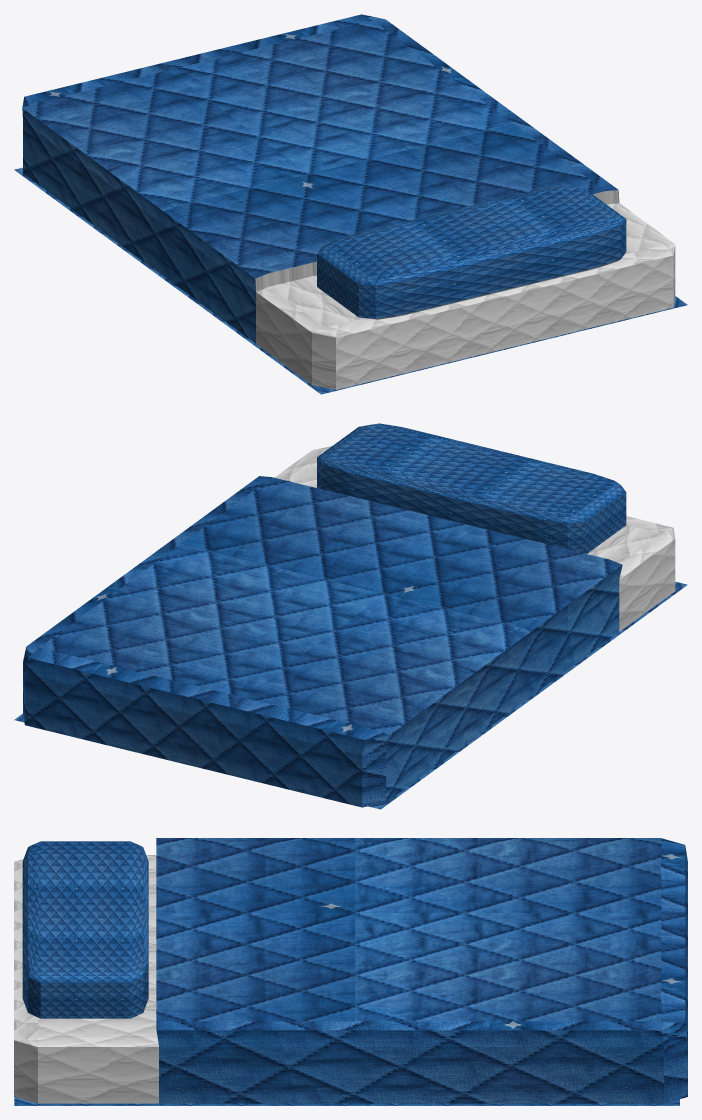
File: cama_azul.fbx
3 views of the same model, one above another, from view 1: azimuth 30°, elevation 25°; view 2: azimuth 150°, elevation 25°; view 3: azimuth 270°, elevation 25° (orthographic). The views are drawn at different scales.
Visible parts, largest first — view 1: Cubo.001; view 2: Cubo.001; view 3: Cubo.001.
Part boxes in pixels (x1,y1,x2,y2): Cubo.001: (14, 14, 687, 394); Cubo.001: (14, 423, 687, 809); Cubo.001: (14, 838, 687, 1105).
Bounding box in the file's own units: 514 × 130 × 755.
2 materials, 2 textured.
